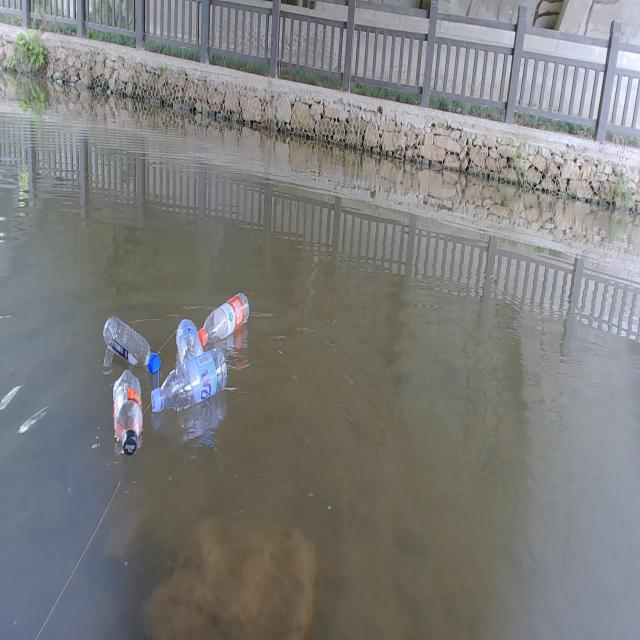Bottle: (152, 346, 230, 413), (109, 369, 146, 457)
Can: (102, 314, 162, 372), (197, 284, 249, 344), (175, 310, 202, 360)
